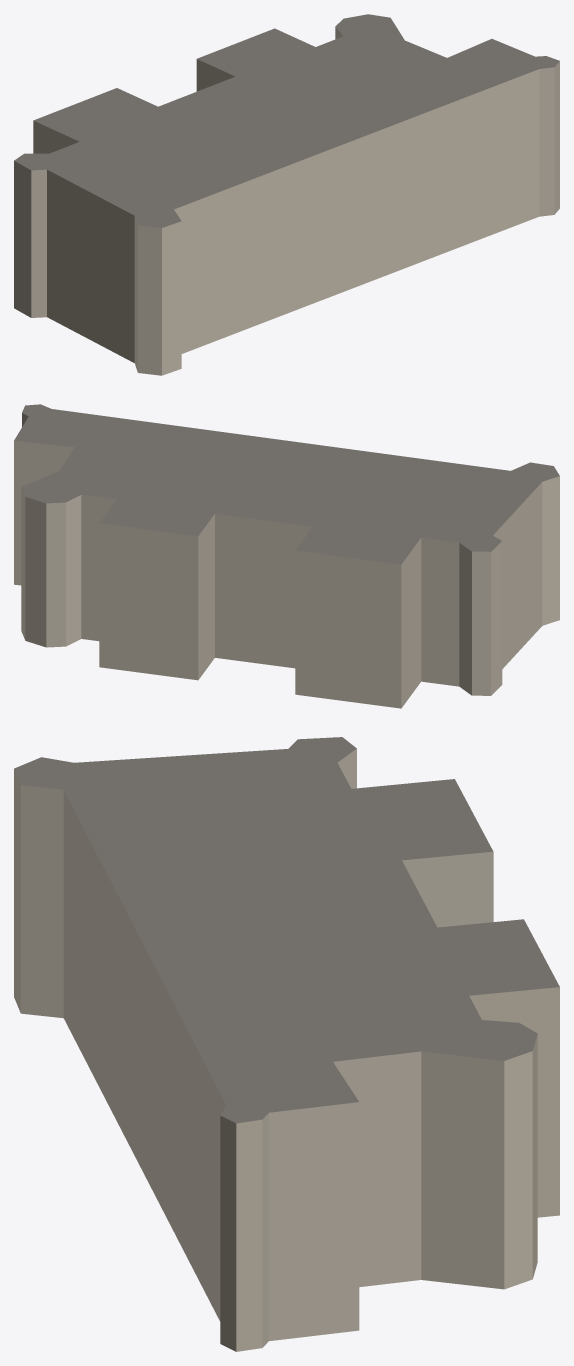
3 renders of one model, top to bottom at view 1: azimuth 30°, elevation 25°; view 2: azimuth 150°, elevation 25°; view 3: azimuth 270°, elevation 25°, orthographic. The views are drawn at different scales.
Parts seen in each view (by area): view 1: HP-w449067894; view 2: HP-w449067894; view 3: HP-w449067894.
Boxes of the visible parts, bbox=[...] form: HP-w449067894: bbox=[14, 14, 559, 375]; HP-w449067894: bbox=[14, 404, 559, 708]; HP-w449067894: bbox=[14, 737, 559, 1351].
Bounding box in the file's own units: 65.29 × 18 × 38.98.
